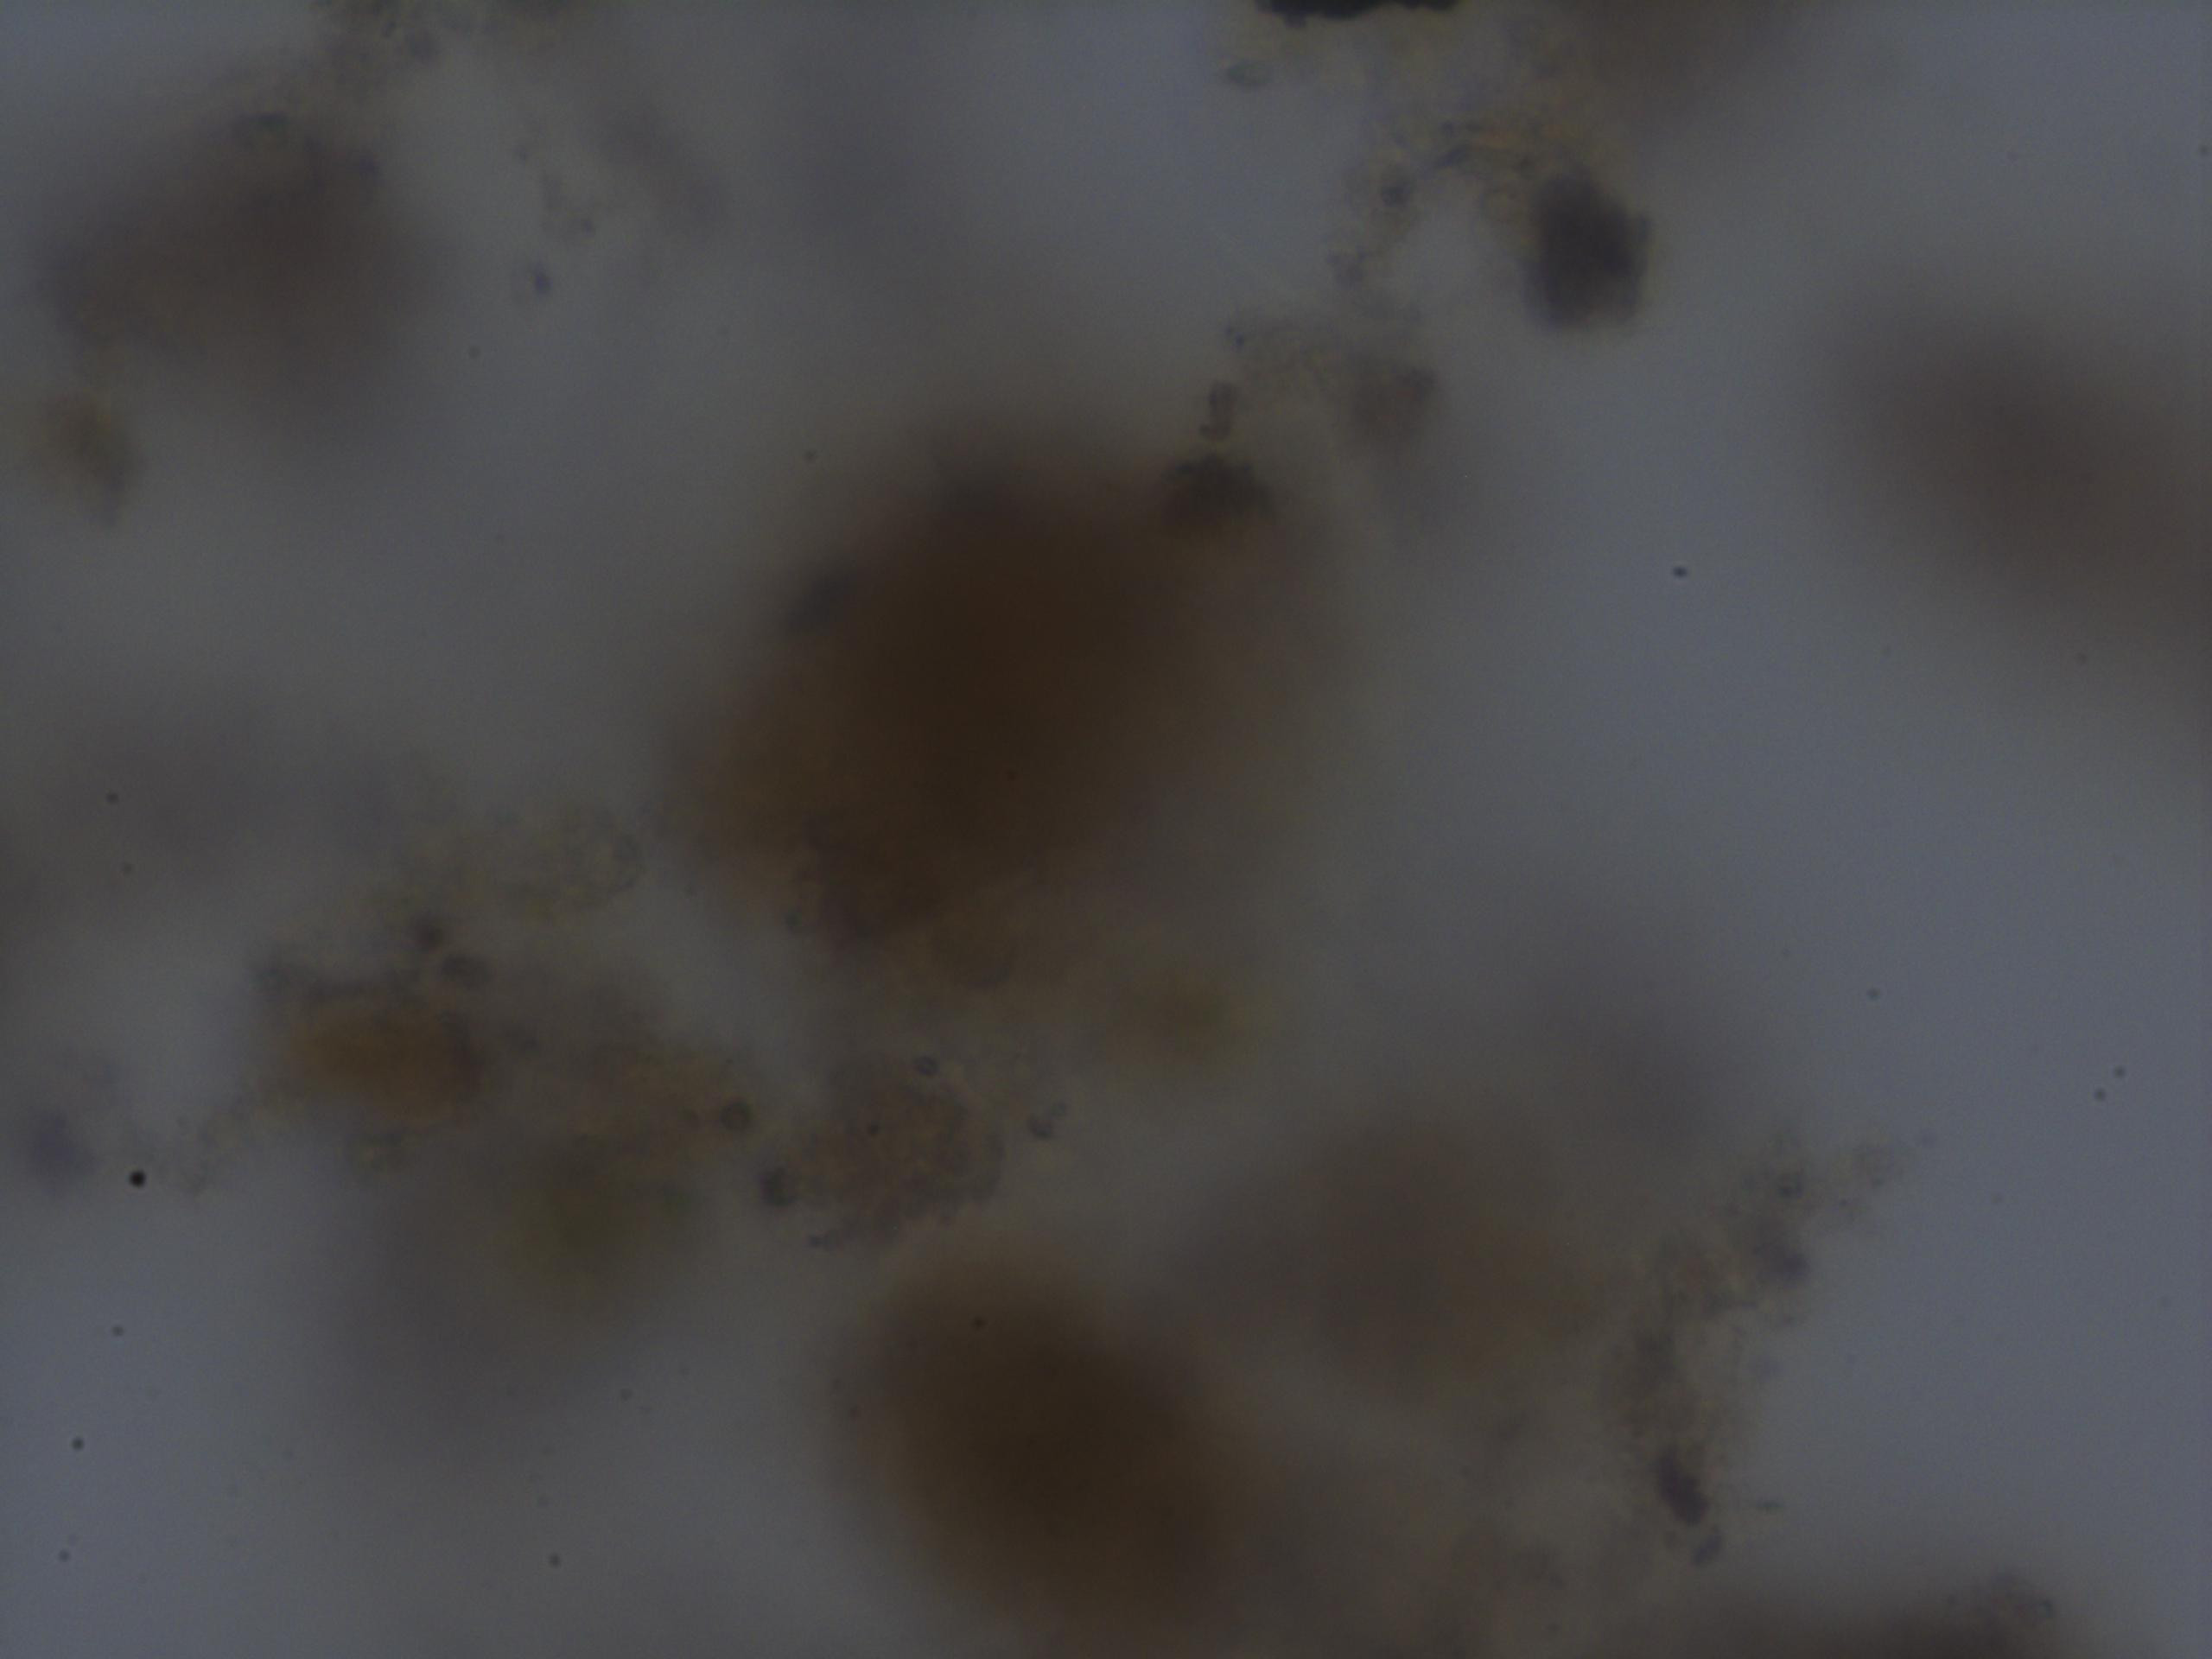open_floc: (0, 0, 1982, 1659)
